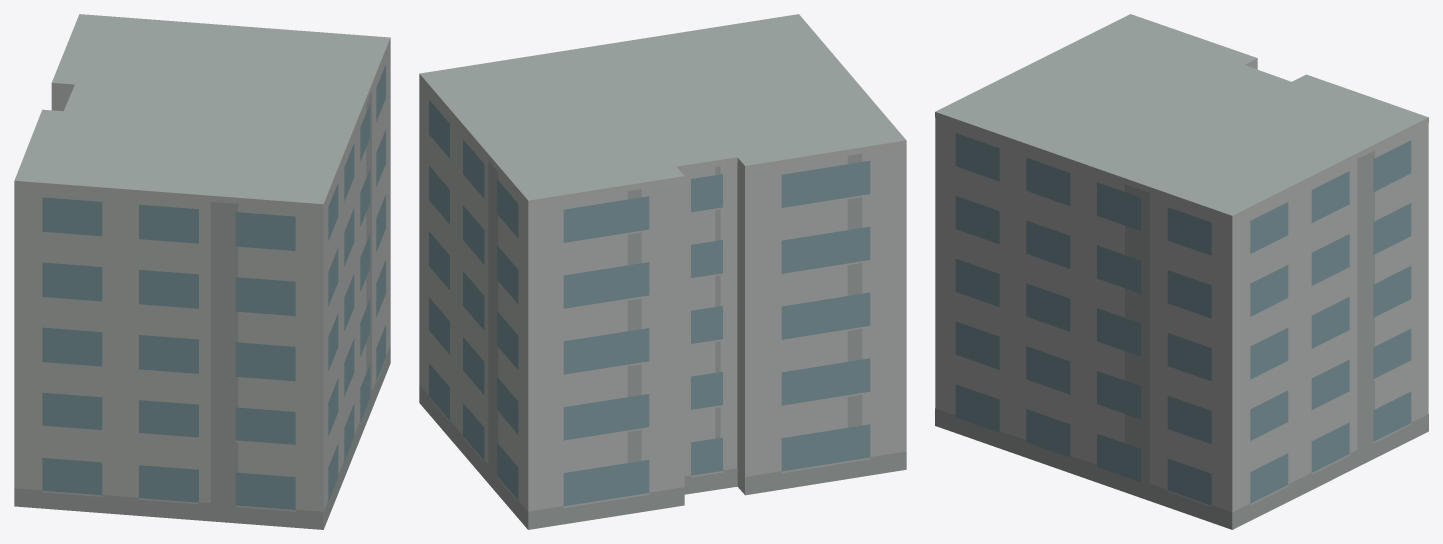
Rendered from survey-upis-32893369.glb.
The picture shows the model from 3 angles, left to right: view 1: azimuth 30°, elevation 25°; view 2: azimuth 150°, elevation 25°; view 3: azimuth 270°, elevation 25°; orthographic projection. The views are drawn at different scales.
Parts seen in each view (by area): view 1: survey-upis-32893369.tmp; view 2: survey-upis-32893369.tmp; view 3: survey-upis-32893369.tmp.
Boxes of the visible parts, x1,y1,x2,y2 form: survey-upis-32893369.tmp: (14, 14, 390, 529); survey-upis-32893369.tmp: (419, 14, 906, 529); survey-upis-32893369.tmp: (935, 14, 1428, 529).
Size of the model in its own units: 17.93 by 13 by 18.53.
